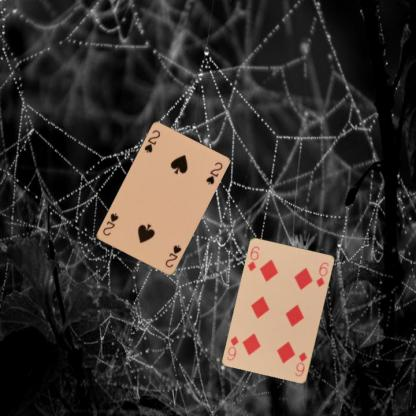2s: (162, 243, 183, 269), (142, 128, 161, 154)
6d: (292, 349, 309, 378), (246, 244, 261, 273)
